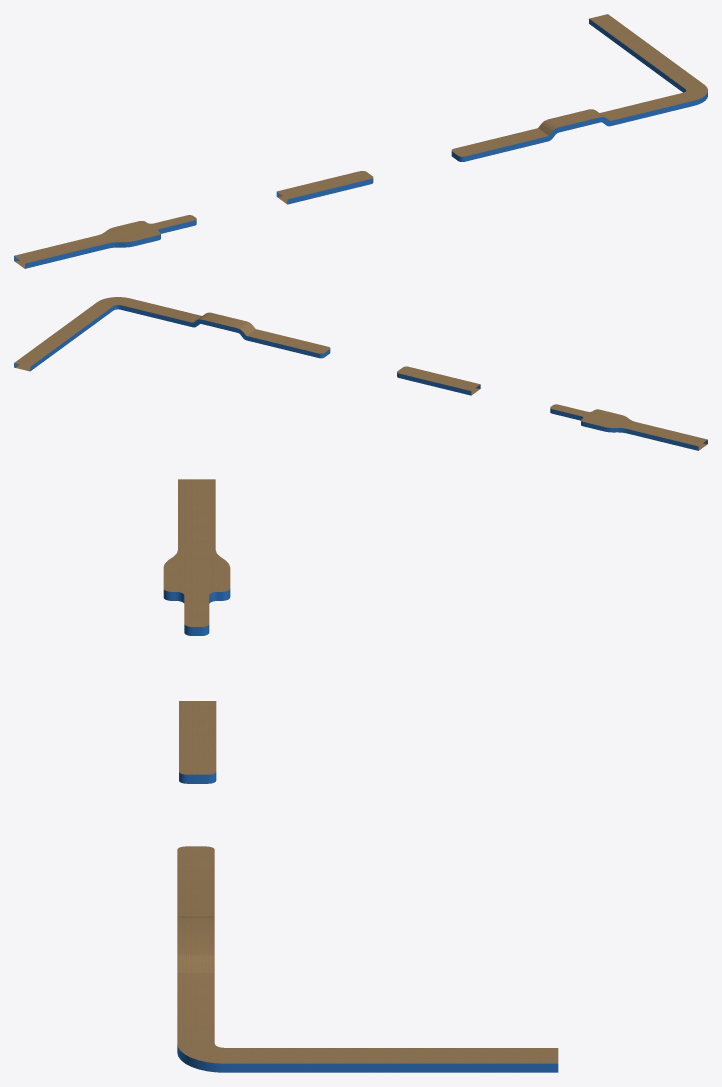
Rendered from ramp_14.FBX.
The picture shows the model from 3 angles, top to bottom: view 1: azimuth 30°, elevation 25°; view 2: azimuth 150°, elevation 25°; view 3: azimuth 270°, elevation 25°; orthographic projection. The views are drawn at different scales.
Parts seen in each view (by area): view 1: ramp_14; view 2: ramp_14; view 3: ramp_14.
Part boxes in pixels (x1,y1,x2,y2): ramp_14: (14, 14, 707, 268); ramp_14: (14, 297, 707, 450); ramp_14: (163, 479, 558, 1072).
Size of the model in its own units: 19801 by 315 by 5654.
